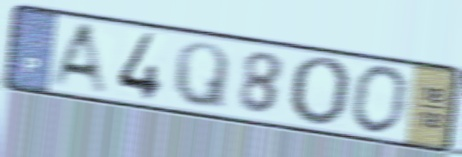4: (115, 29, 164, 105)
8: (236, 49, 286, 116)
A: (45, 20, 113, 99)
O: (288, 54, 355, 131), (349, 62, 413, 137)
Q: (171, 39, 232, 114)
